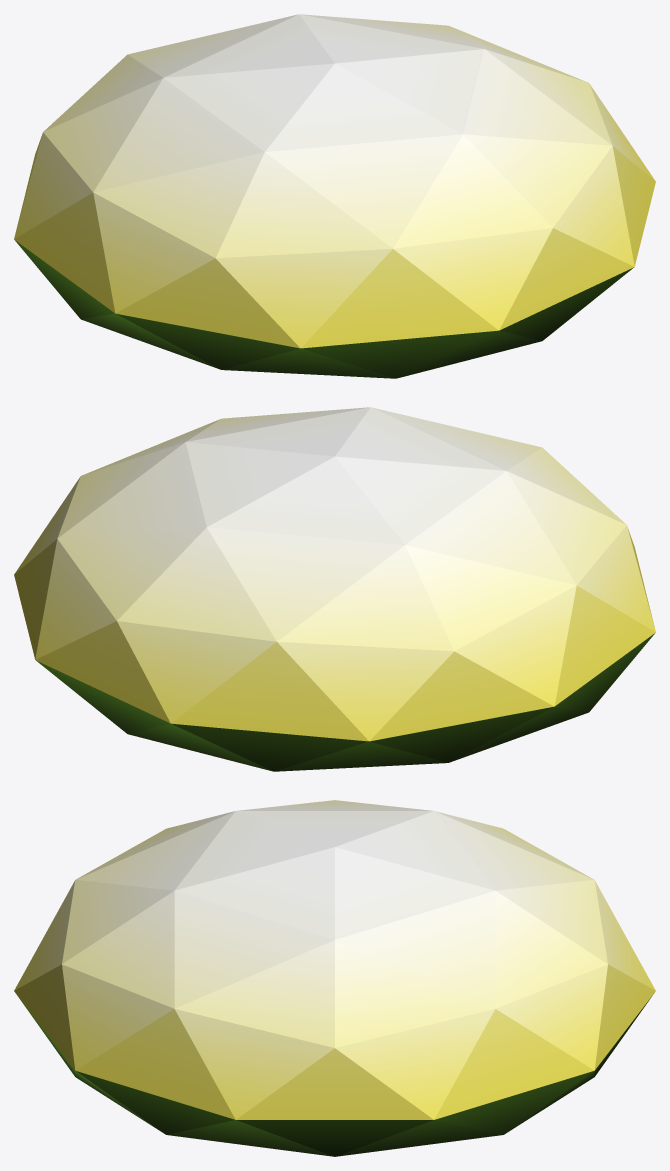
The model's file is WideBush_White.fbx.
3 views of the same model, one above another, from view 1: azimuth 30°, elevation 25°; view 2: azimuth 150°, elevation 25°; view 3: azimuth 270°, elevation 25° (orthographic). The views are drawn at different scales.
Parts seen in each view (by area): view 1: WideBush_White; view 2: WideBush_White; view 3: WideBush_White.
Part boxes in pixels (x1,y1,x2,y2): WideBush_White: (14,14,655,378); WideBush_White: (14,407,655,771); WideBush_White: (14,800,655,1156).
Size of the model in its own units: 470 by 165 by 494.
